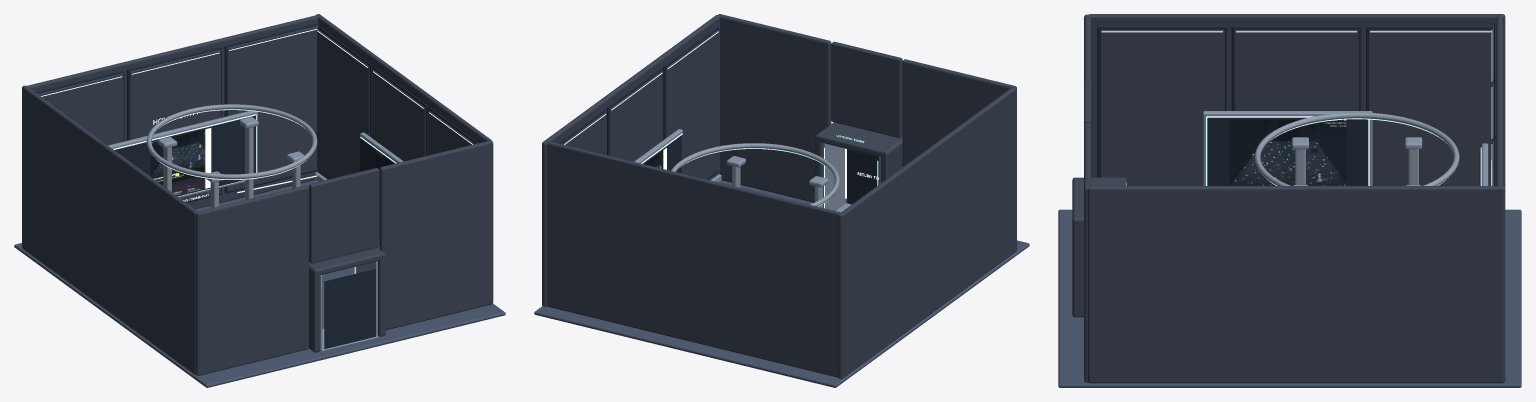
File: hologravity.glb
3 views of the same model, side by side, from view 1: azimuth 30°, elevation 25°; view 2: azimuth 150°, elevation 25°; view 3: azimuth 270°, elevation 25° (orthographic). The views are drawn at different scales.
Parts seen in each view (by area): view 1: V14 hologravity / V14 hologravity / shell.004 finish, V14 hologravity / Lateral hull.008, V14 hologravity / Rear hull wing.008, V14 hologravity / Rear hull wing.009, V14 hologravity / V14 hologravity / dark.004 finish, V14 hologravity / Continuous satin deck.004, V14 hologravity / Front hull.004, V14 hologravity / Return aperture.004, V14 hologravity / V14 hologravity / metal.004 finish, V14 hologravity / Original artwork / hologravity.008, V14 hologravity / Lateral hull.009, V14 hologravity / Suspended optical instrument.005 (+3 smaller); view 2: V14 hologravity / Front hull.004, V14 hologravity / Lateral hull.008, V14 hologravity / V14 hologravity / shell.004 finish, V14 hologravity / Rear hull wing.009, V14 hologravity / Rear hull wing.008, V14 hologravity / Continuous satin deck.004, V14 hologravity / Lateral hull.009, V14 hologravity / V14 hologravity / metal.004 finish, V14 hologravity / V14 hologravity / dark.004 finish, V14 hologravity / Return aperture.004, V14 hologravity / Suspended optical instrument.005; view 3: V14 hologravity / Lateral hull.009, V14 hologravity / V14 hologravity / shell.004 finish, V14 hologravity / Continuous satin deck.004, V14 hologravity / Lateral hull.008, V14 hologravity / V14 hologravity / dark.004 finish, V14 hologravity / Original artwork / hologravity-product.004, V14 hologravity / V14 hologravity / metal.004 finish, V14 hologravity / Suspended optical instrument.005, V14 hologravity / Front hull.004, V14 hologravity / Rear hull wing.009, V14 hologravity / V14 hologravity / white.004 finish, V14 hologravity / V14 hologravity / pearl.004 finish (+2 smaller).
Part boxes in pixels (<box>): V14 hologravity / V14 hologravity / shell.004 finish: <box>38,25,474,352</box>; V14 hologravity / Lateral hull.008: <box>22,85,197,375</box>; V14 hologravity / Rear hull wing.008: <box>196,185,308,375</box>; V14 hologravity / Rear hull wing.009: <box>379,140,493,330</box>; V14 hologravity / V14 hologravity / dark.004 finish: <box>35,23,478,202</box>; V14 hologravity / Continuous satin deck.004: <box>14,180,505,387</box>; V14 hologravity / Front hull.004: <box>26,15,318,209</box>; V14 hologravity / Return aperture.004: <box>324,269,375,349</box>; V14 hologravity / V14 hologravity / metal.004 finish: <box>108,111,403,351</box>; V14 hologravity / Original artwork / hologravity.008: <box>150,128,211,195</box>; V14 hologravity / Lateral hull.009: <box>316,14,492,179</box>; V14 hologravity / Suspended optical instrument.005: <box>146,104,317,179</box>; V14 hologravity / Front hull.004: <box>546,141,841,377</box>; V14 hologravity / Lateral hull.008: <box>837,87,1016,378</box>; V14 hologravity / V14 hologravity / shell.004 finish: <box>562,30,902,207</box>; V14 hologravity / Rear hull wing.009: <box>718,14,831,202</box>; V14 hologravity / Rear hull wing.008: <box>902,59,1016,249</box>; V14 hologravity / Continuous satin deck.004: <box>534,180,1029,387</box>; V14 hologravity / Lateral hull.009: <box>542,15,719,306</box>; V14 hologravity / V14 hologravity / metal.004 finish: <box>634,129,880,212</box>; V14 hologravity / V14 hologravity / dark.004 finish: <box>558,26,718,179</box>; V14 hologravity / Return aperture.004: <box>847,149,879,203</box>; V14 hologravity / Suspended optical instrument.005: <box>671,143,839,206</box>; V14 hologravity / Lateral hull.009: <box>1088,186,1505,383</box>; V14 hologravity / V14 hologravity / shell.004 finish: <box>1072,26,1493,317</box>; V14 hologravity / Continuous satin deck.004: <box>1058,209,1521,387</box>; V14 hologravity / Lateral hull.008: <box>1089,14,1505,187</box>; V14 hologravity / V14 hologravity / dark.004 finish: <box>1097,23,1496,185</box>; V14 hologravity / Original artwork / hologravity-product.004: <box>1229,119,1346,185</box>; V14 hologravity / V14 hologravity / metal.004 finish: <box>1203,111,1488,185</box>; V14 hologravity / Suspended optical instrument.005: <box>1254,112,1459,185</box>; V14 hologravity / Front hull.004: <box>1496,14,1503,186</box>; V14 hologravity / Rear hull wing.009: <box>1084,122,1090,382</box>; V14 hologravity / V14 hologravity / white.004 finish: <box>1101,30,1492,185</box>; V14 hologravity / V14 hologravity / pearl.004 finish: <box>1295,149,1418,184</box>.
Bounding box in the file's own units: 19.2 × 10.2 × 21.4.
Materials: 11 (3 with a texture image).
